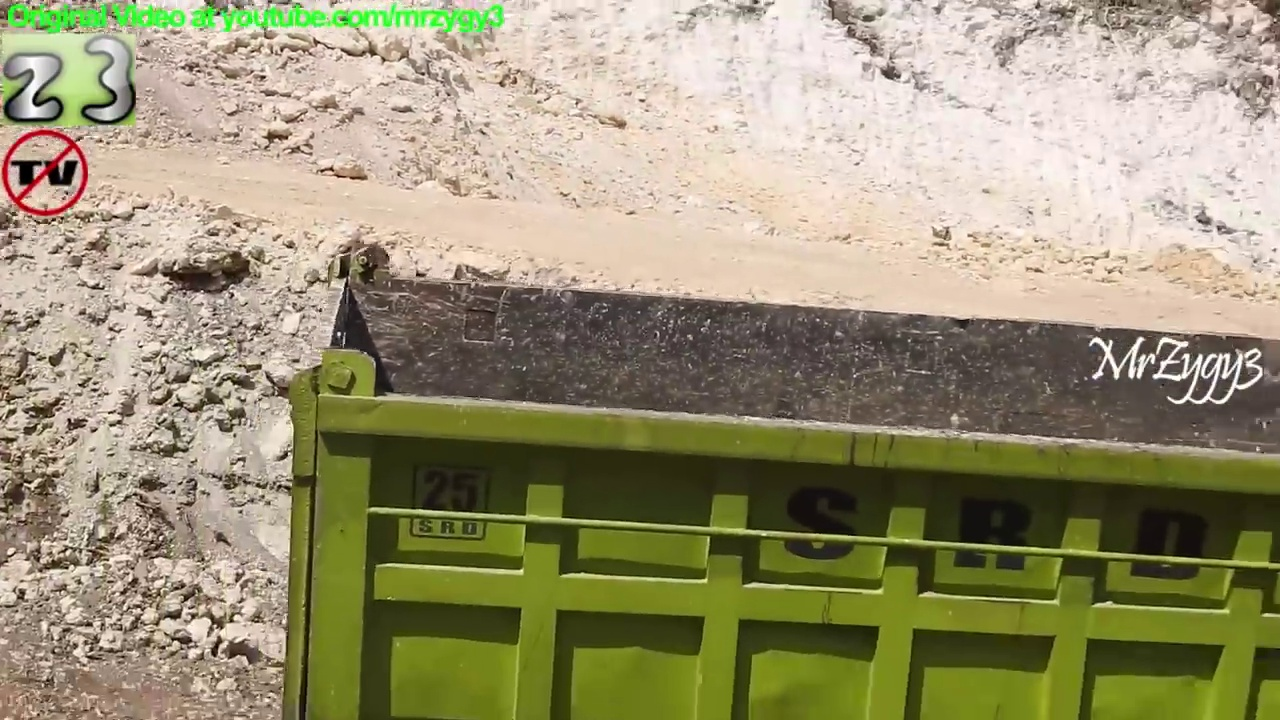truck: (277, 236, 1280, 720)
